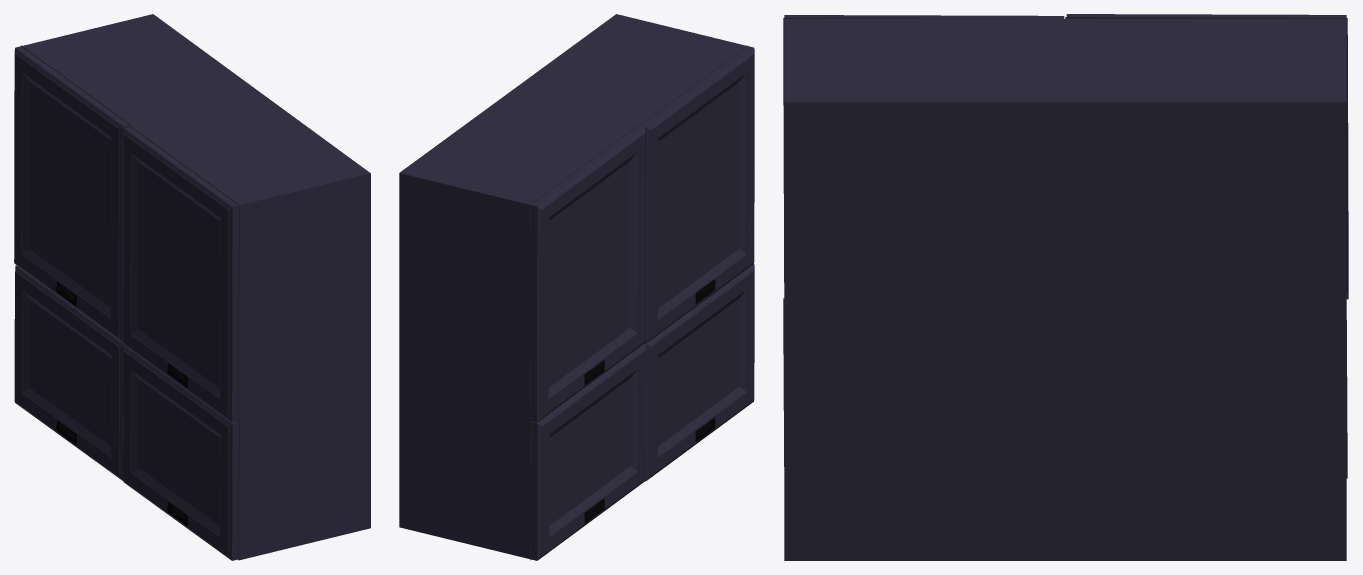
Rendered from ShelfCabinets.fbx.
The picture shows the model from 3 angles, left to right: view 1: azimuth 30°, elevation 25°; view 2: azimuth 150°, elevation 25°; view 3: azimuth 270°, elevation 25°; orthographic projection. The views are drawn at different scales.
Visible parts, largest first — view 1: Box045, Object017, Object018, Object019, Object020; view 2: Box045, Object018, Object017, Object020, Object019; view 3: Box045, Object018, Object017.
Boxes of the visible parts, bbox=[...] form: Box045: bbox=[22, 14, 370, 560]; Object017: bbox=[123, 126, 239, 422]; Object018: bbox=[14, 45, 129, 341]; Object019: bbox=[123, 345, 239, 560]; Object020: bbox=[14, 265, 124, 481]; Box045: bbox=[399, 14, 746, 558]; Object018: bbox=[530, 124, 645, 422]; Object017: bbox=[640, 45, 754, 343]; Object020: bbox=[530, 343, 646, 560]; Object019: bbox=[645, 264, 754, 481]; Box045: bbox=[784, 19, 1346, 560]; Object018: bbox=[1065, 14, 1348, 299]; Object017: bbox=[783, 15, 1064, 282].
Size of the model in its own units: 38.82 by 90.57 by 101.
